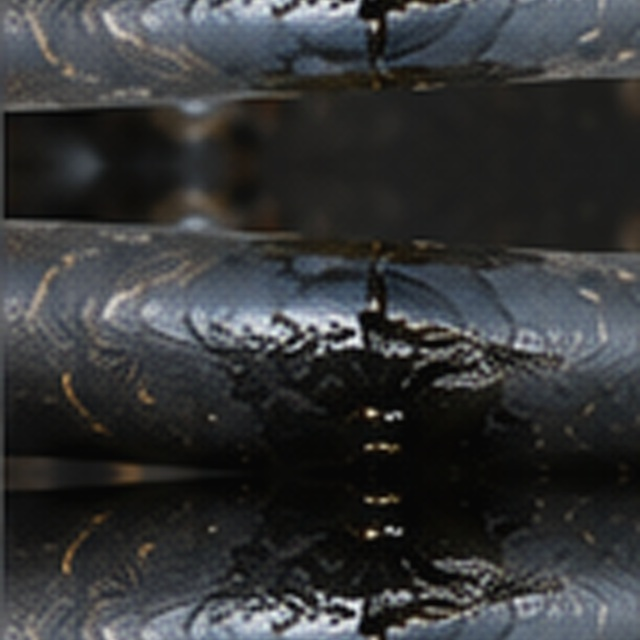hydraulic_oil_leak: (163, 205, 438, 459)
